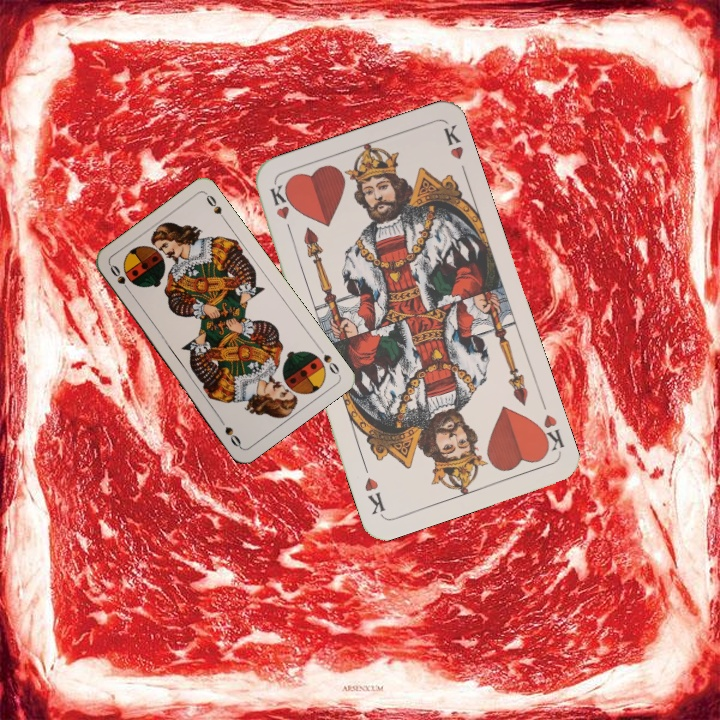HK: (266, 181, 296, 240), (532, 410, 567, 457)
SO: (106, 261, 134, 297), (314, 342, 342, 377)
